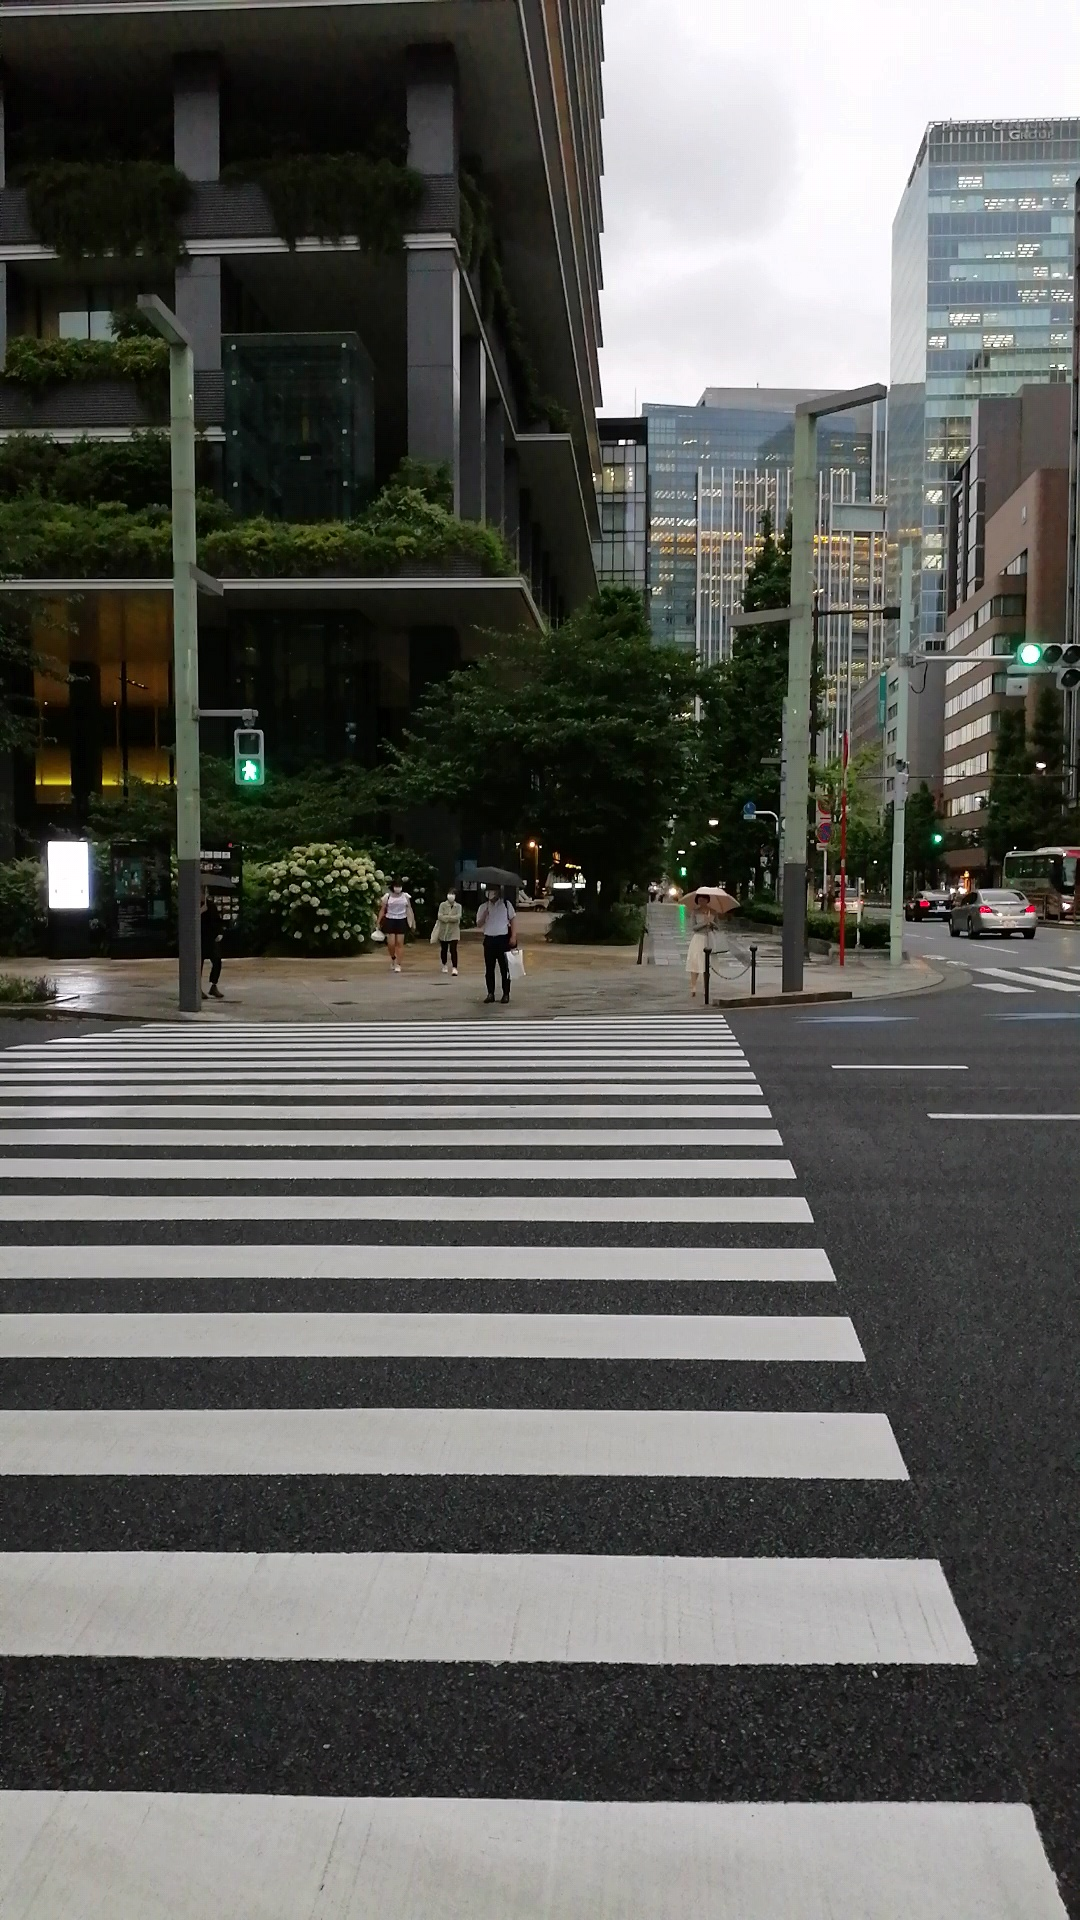green: (232, 728, 266, 789)
